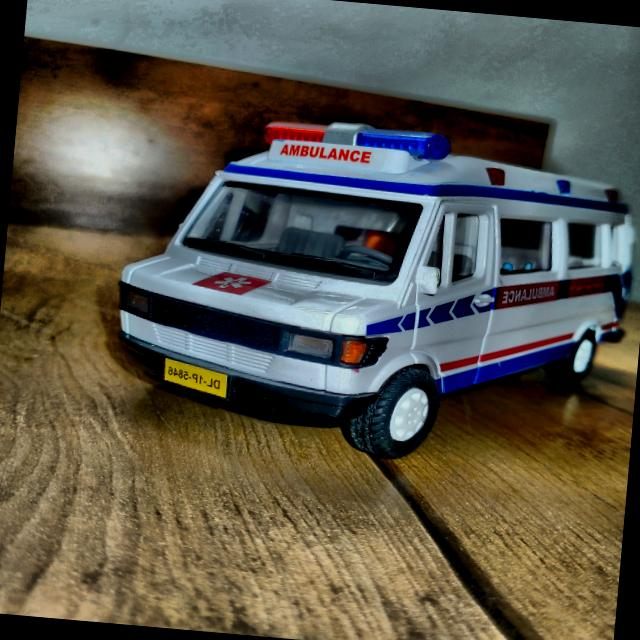Ambulance: (106, 105, 640, 478)
